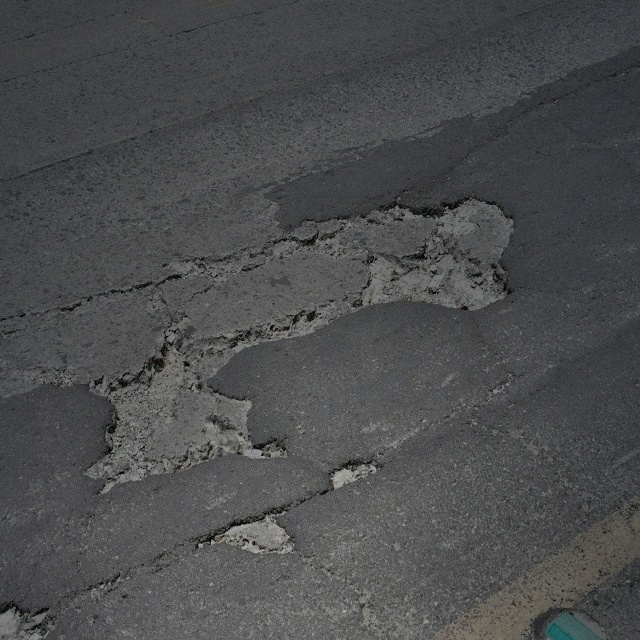pothole: (80, 334, 238, 468), (356, 189, 521, 315), (205, 504, 296, 563), (247, 302, 326, 352), (273, 226, 352, 263), (326, 452, 384, 502), (180, 247, 256, 285), (243, 428, 290, 467)
